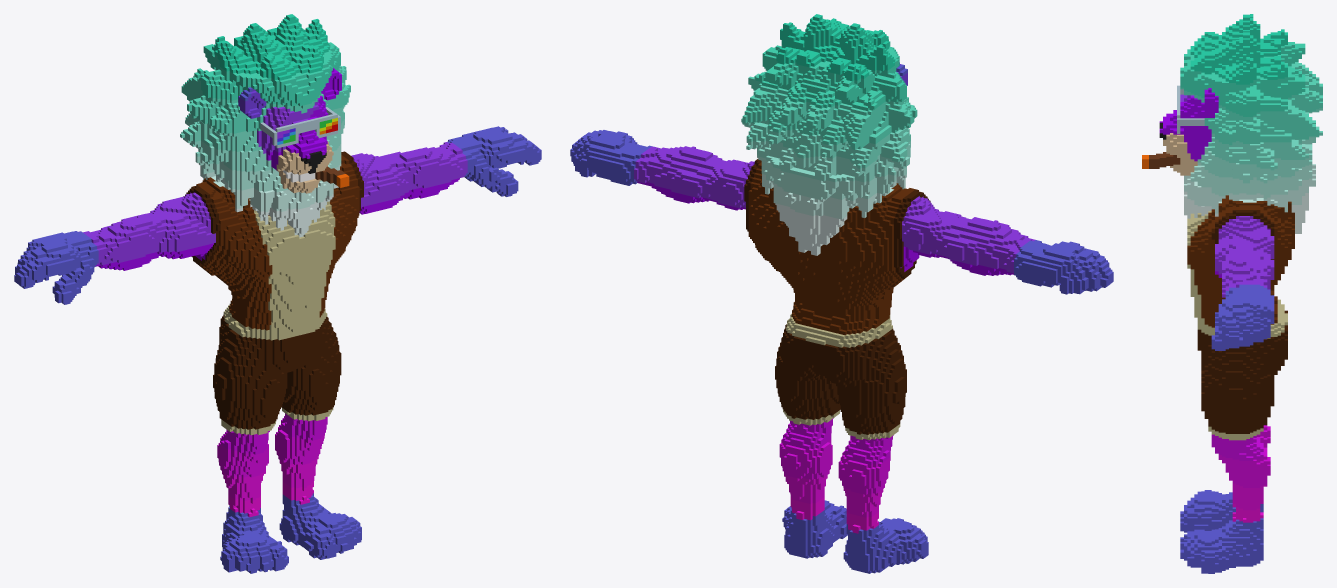
The model's file is 905-D6kVx3oh.glb.
The picture shows the model from 3 angles, left to right: view 1: azimuth 30°, elevation 25°; view 2: azimuth 150°, elevation 25°; view 3: azimuth 270°, elevation 25°; orthographic projection. The views are drawn at different scales.
Parts seen in each view (by area): view 1: cigar; view 2: cigar; view 3: cigar.
Boxes of the visible parts, <box> form: cigar: <box>14,14,541,573</box>; cigar: <box>570,14,1113,573</box>; cigar: <box>1142,14,1322,573</box>.
Bounding box in the file's own units: 17.2 × 16.5 × 5.2.
5 materials, 5 textured.
